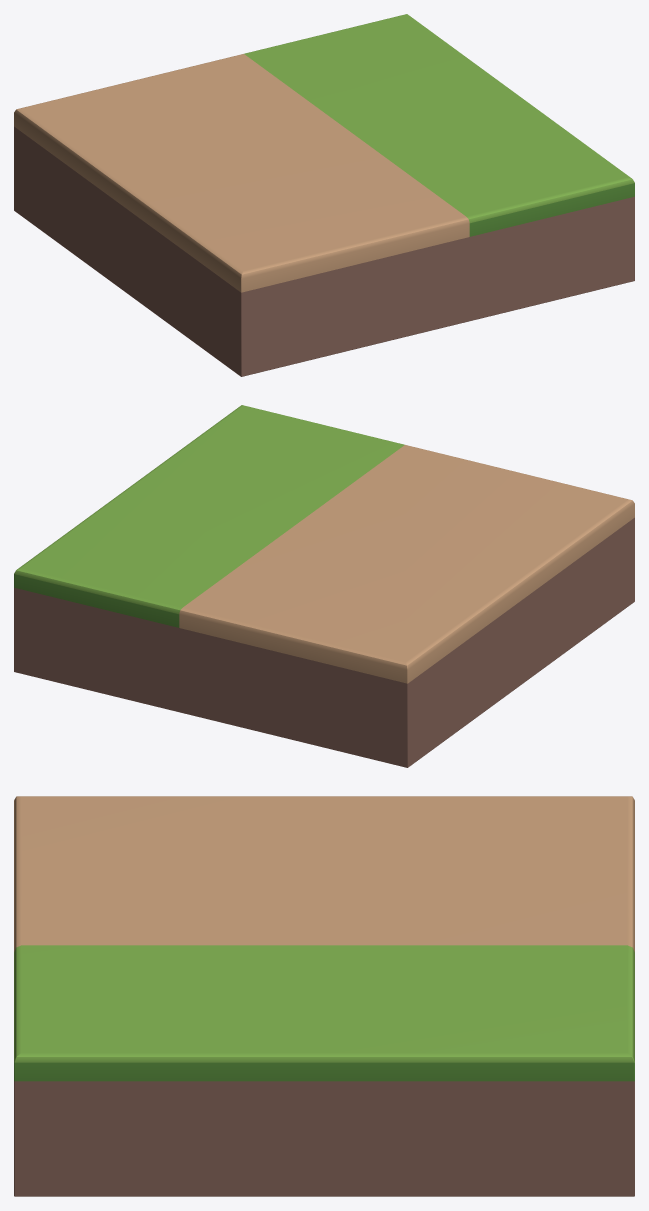
File: dirt_path_tile_edge_01.glb
3 views of the same model, one above another, from view 1: azimuth 30°, elevation 25°; view 2: azimuth 150°, elevation 25°; view 3: azimuth 270°, elevation 25° (orthographic). The views are drawn at different scales.
Parts seen in each view (by area): view 1: dirt_path_tile_edge_01; view 2: dirt_path_tile_edge_01; view 3: dirt_path_tile_edge_01.
Boxes of the visible parts, x1,y1,x2,y2 form: dirt_path_tile_edge_01: (14,14,634,376); dirt_path_tile_edge_01: (14,405,634,767); dirt_path_tile_edge_01: (14,796,634,1196).
Bounding box in the file's own units: 1 × 0.25 × 1.
